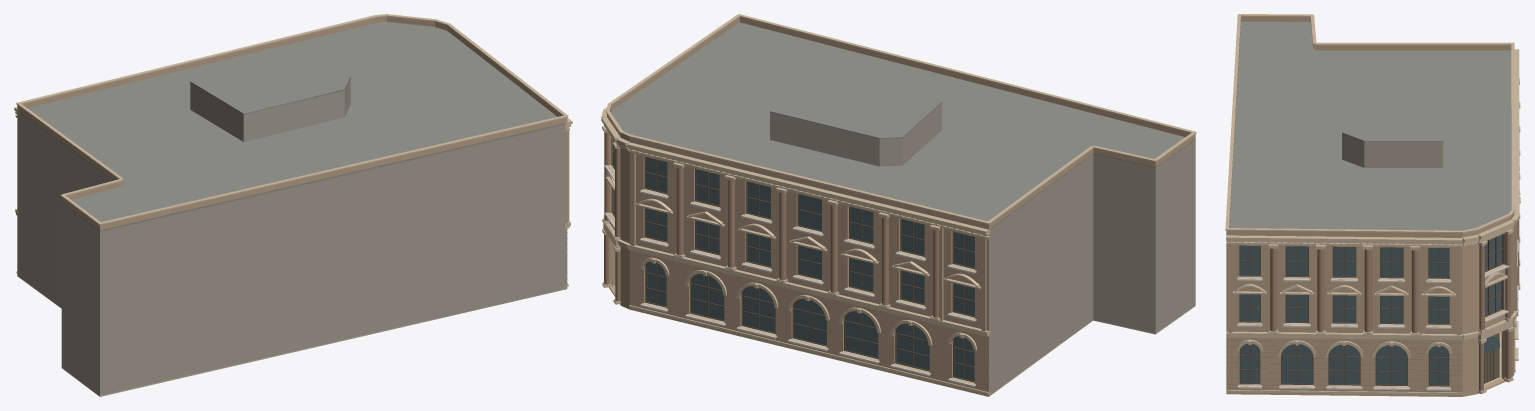
The model's file is huangpu-yongnian-life-insurance-building-raw.glb.
3 views of the same model, side by side, from view 1: azimuth 30°, elevation 25°; view 2: azimuth 150°, elevation 25°; view 3: azimuth 270°, elevation 25° (orthographic). The views are drawn at different scales.
Parts seen in each view (by area): view 1: 永年人寿保险公司大楼（广东路93号）; view 2: 永年人寿保险公司大楼（广东路93号）; view 3: 永年人寿保险公司大楼（广东路93号）.
Part boxes in pixels (bbox=[...]): 永年人寿保险公司大楼（广东路93号）: bbox=[14, 14, 572, 396]; 永年人寿保险公司大楼（广东路93号）: bbox=[601, 14, 1196, 396]; 永年人寿保险公司大楼（广东路93号）: bbox=[1225, 14, 1520, 396].
Size of the model in its own units: 47.87 by 18.89 by 27.13.
